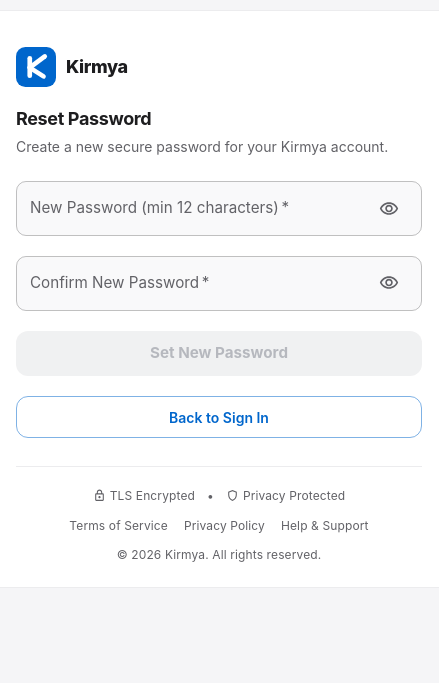
Test: ResetPasswordPage › reports an expired or already-used link and offers a new one
Type "ReplacementP@ssw0rd456!" into the password field labelled "New Password (min 12 characters) *" at coordinates (188, 208), box top-left (16, 181), bottom-right (359, 236)
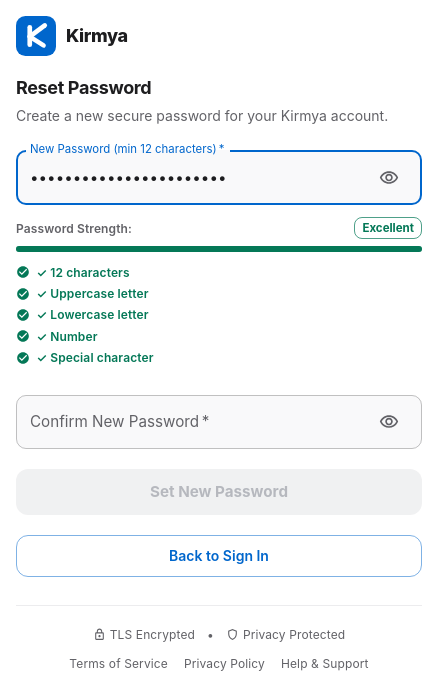
Type "ReplacementP@ssw0rd456!" into the password field labelled "Confirm New Password *" at coordinates (188, 422), box top-left (16, 395), bottom-right (359, 449)
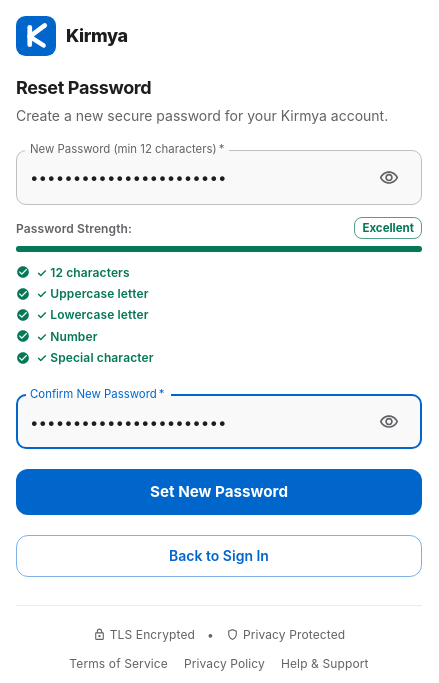
Click the button "Set New Password" at coordinates (219, 492), box top-left (16, 469), bottom-right (422, 515)
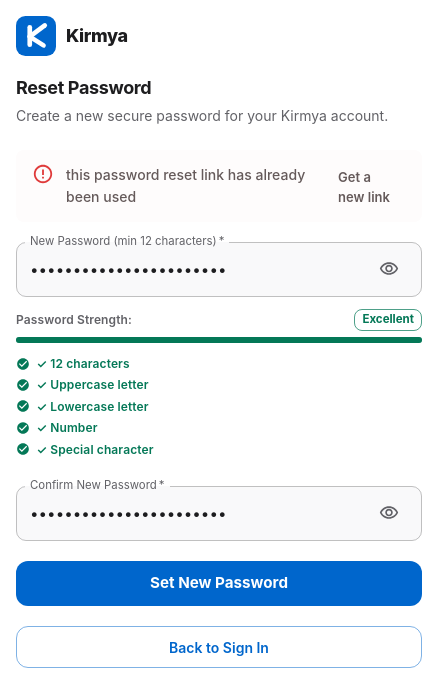
Result: the message shows "already been used" at top-left (66, 166), bottom-right (305, 205)
